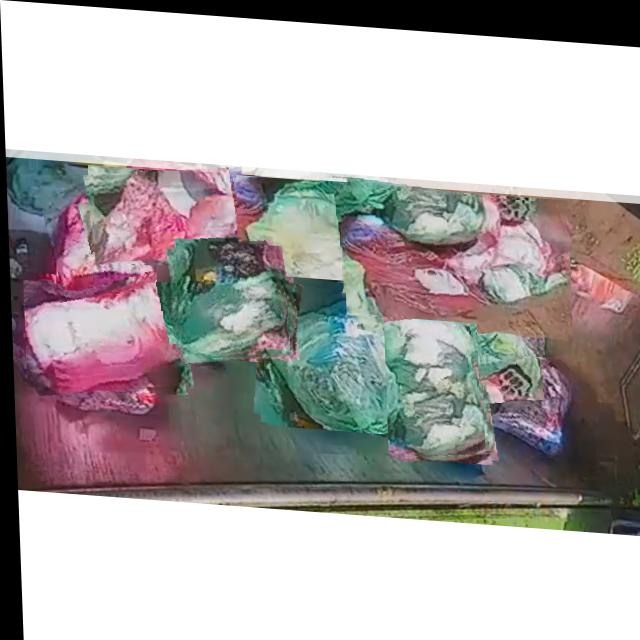general_trashbag: (382, 260, 490, 450), (262, 287, 397, 427), (238, 177, 375, 275), (177, 238, 287, 355), (475, 303, 543, 390)
other_trashbag: (343, 191, 567, 312), (23, 279, 183, 393), (95, 171, 247, 259), (55, 204, 154, 289), (483, 349, 566, 447)
